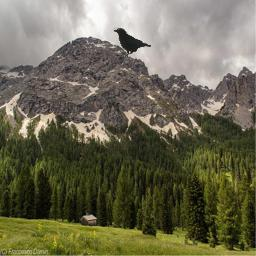Crow: (112, 27, 151, 57)
